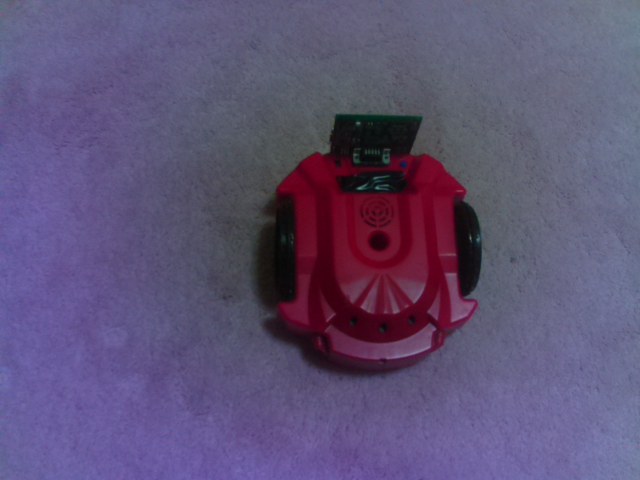chassis: (261, 105, 487, 376)
